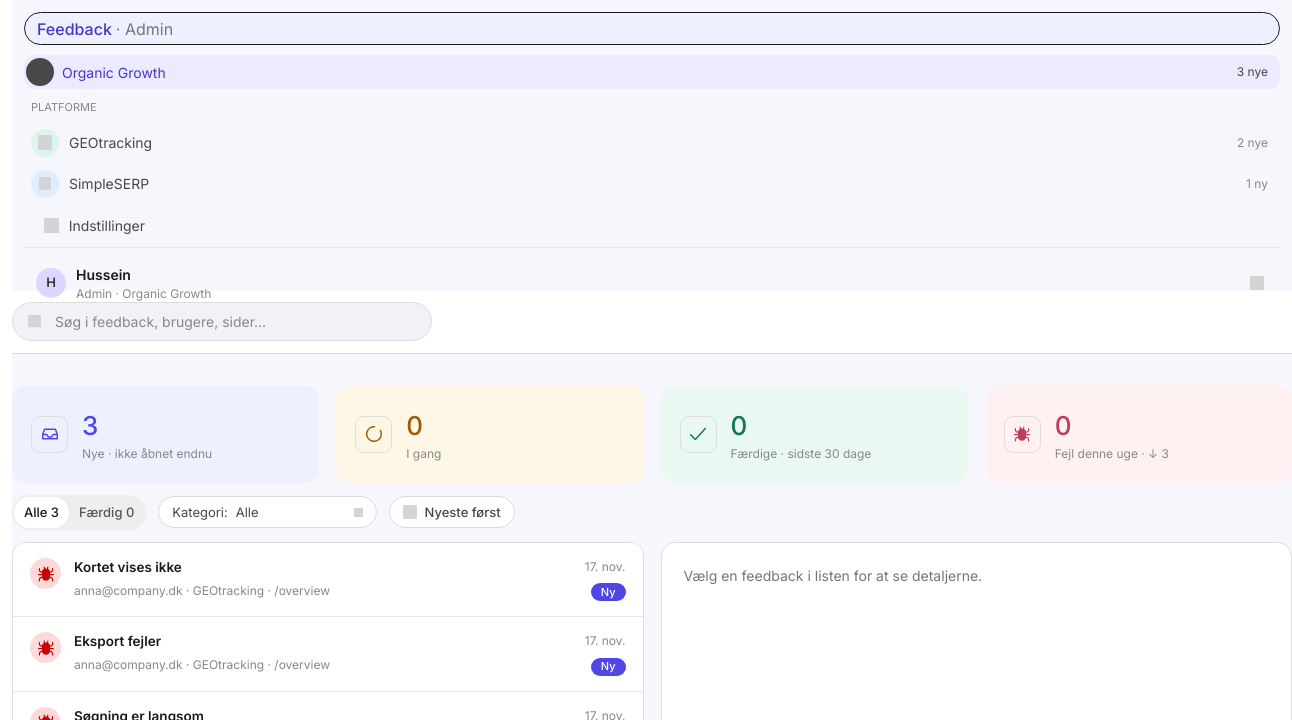
side menu and inbox together › lowers the counts as soon as a ticket is opened (US1-5, SC-007)
What coordinates should you click on to do the following:
click the button "Kortet vises ikke"
I would click on:
 (328, 580)
Its box is 13,543 -> 642,617.
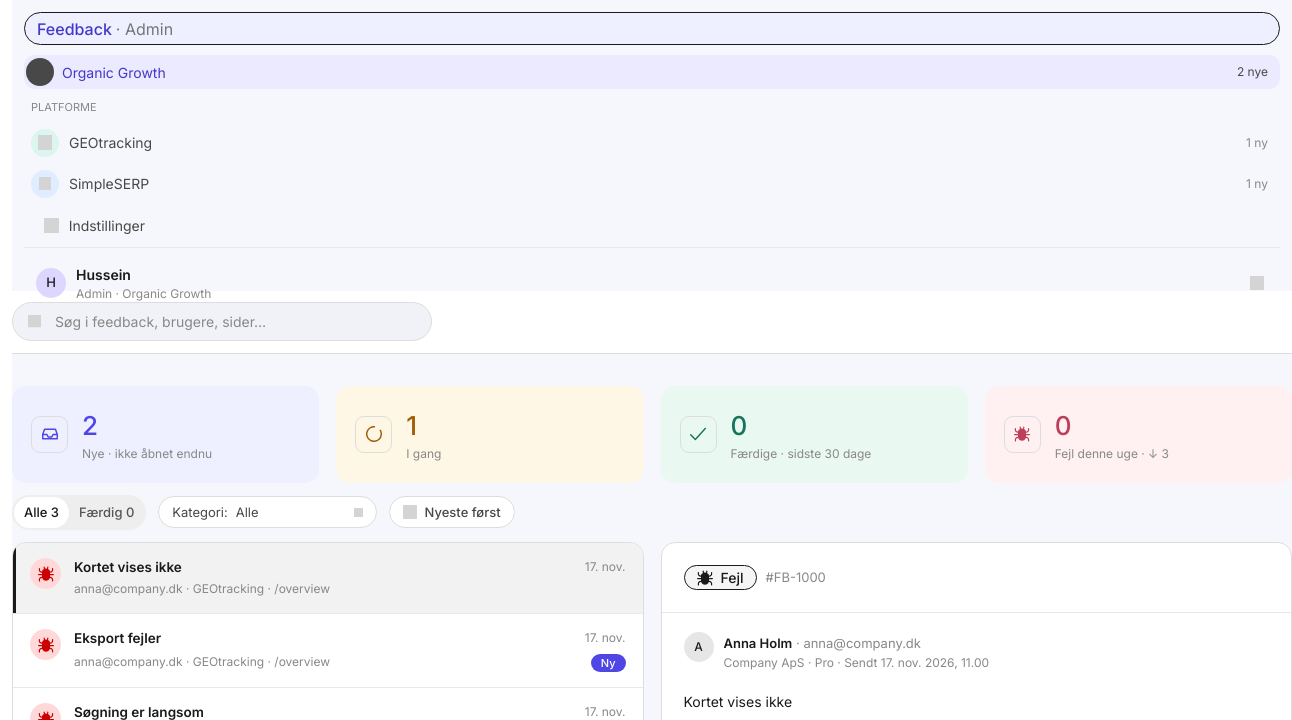
Check: the link "Organic Growth 2 nye" is shown, box 24,55 -> 1280,89
Check: the link "GEOtracking 1 ny" is shown, box 24,126 -> 1280,160
